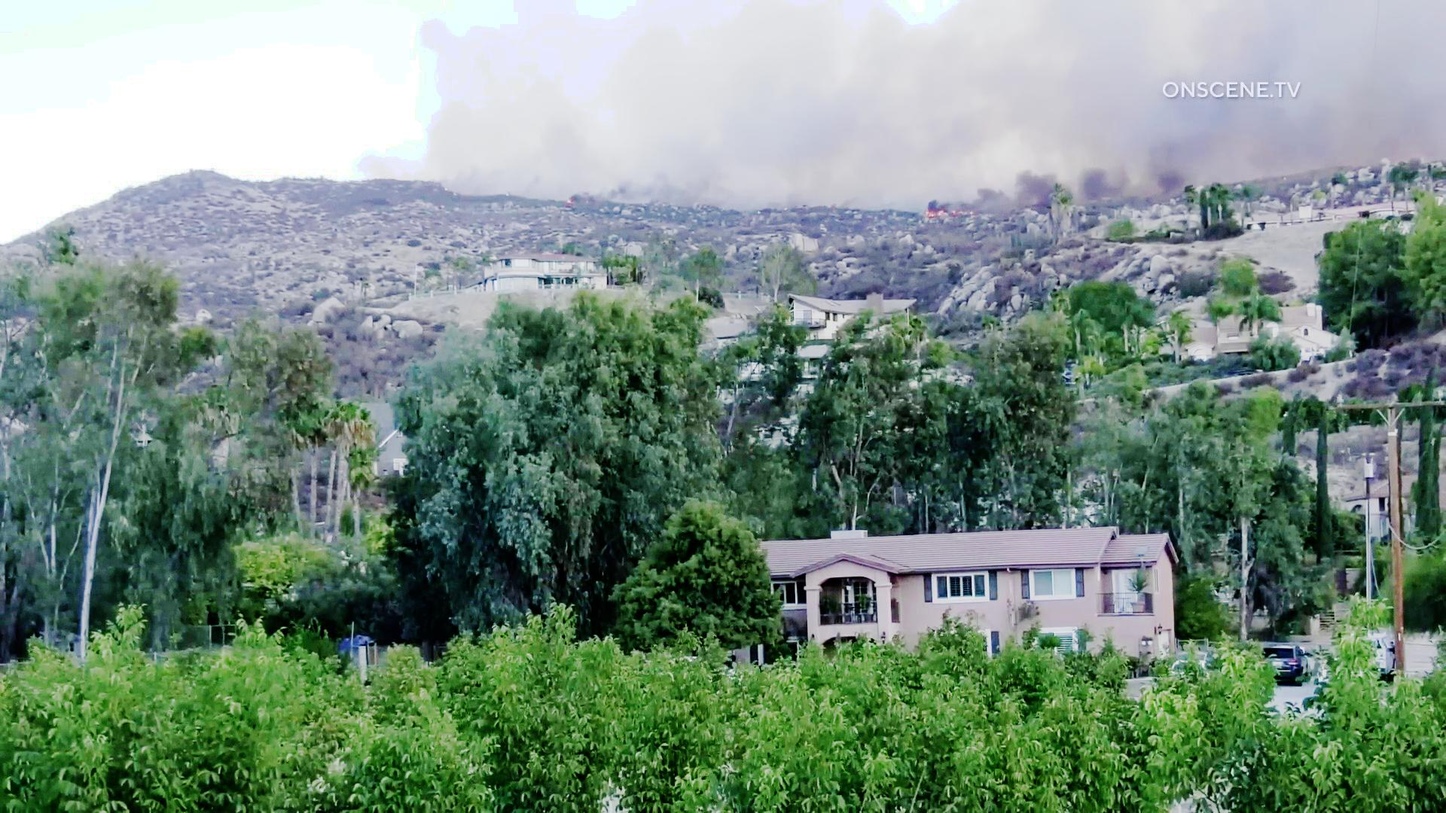smoke: (433, 0, 1156, 177)
